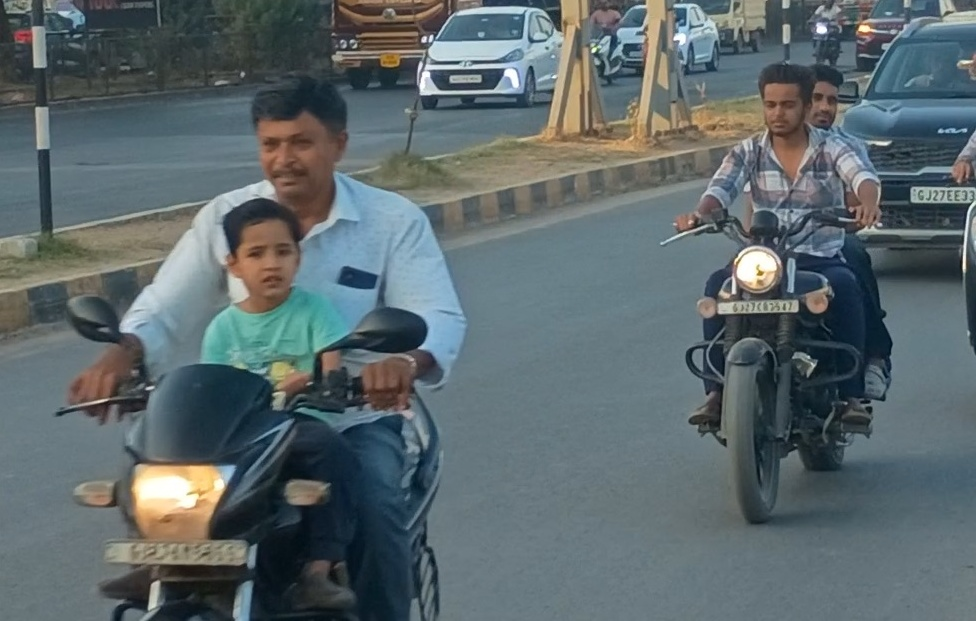BikeWithRider: (46, 64, 479, 621), (646, 45, 905, 532)
NoHelmet: (244, 72, 359, 198), (213, 196, 309, 310), (748, 58, 813, 141), (807, 64, 846, 135)
